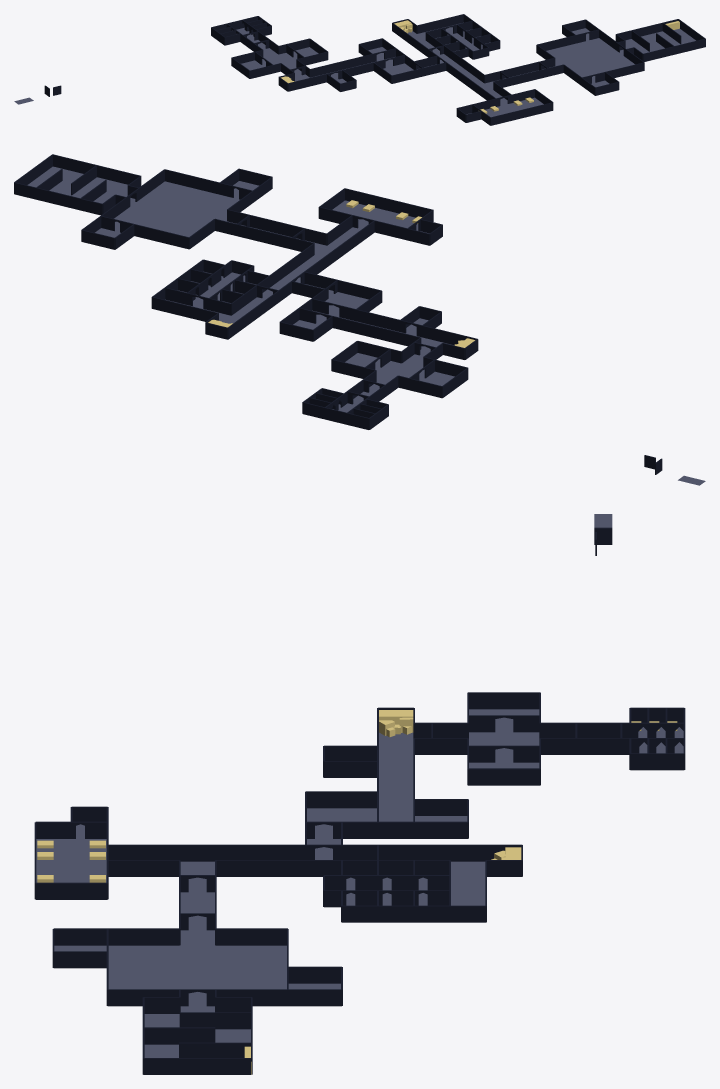
The model's file is Dungeon-Map-Connected.fbx.
3 views of the same model, one above another, from view 1: azimuth 30°, elevation 25°; view 2: azimuth 150°, elevation 25°; view 3: azimuth 270°, elevation 25° (orthographic). The views are drawn at different scales.
Parts seen in each view (by area): view 1: wall, Floor; view 2: wall, Floor; view 3: wall, Floor.
Part boxes in pixels (<box>): wall: <box>44,14,705,125</box>; Floor: <box>241,22,695,117</box>; wall: <box>14,154,662,474</box>; Floor: <box>27,166,454,393</box>; wall: <box>34,527,685,1074</box>; Floor: <box>36,709,539,1057</box>.
Bounding box in the file's own units: 73638 × 1000 × 36100.
